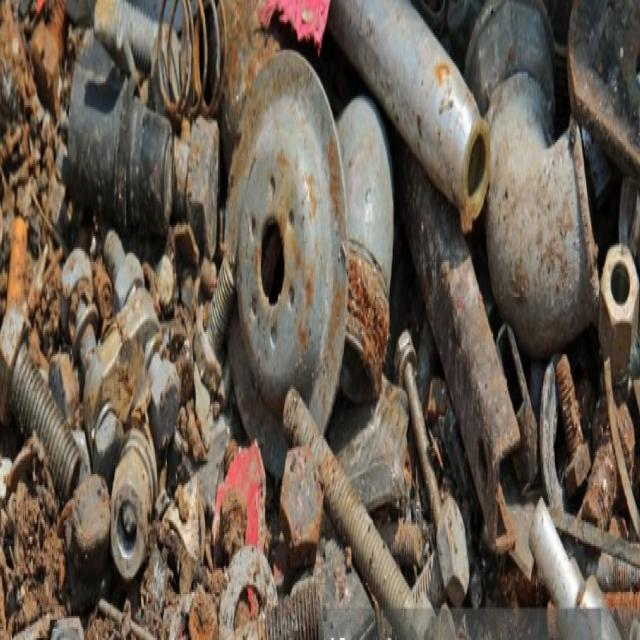Shock-Absorbers: (155, 0, 228, 126)
